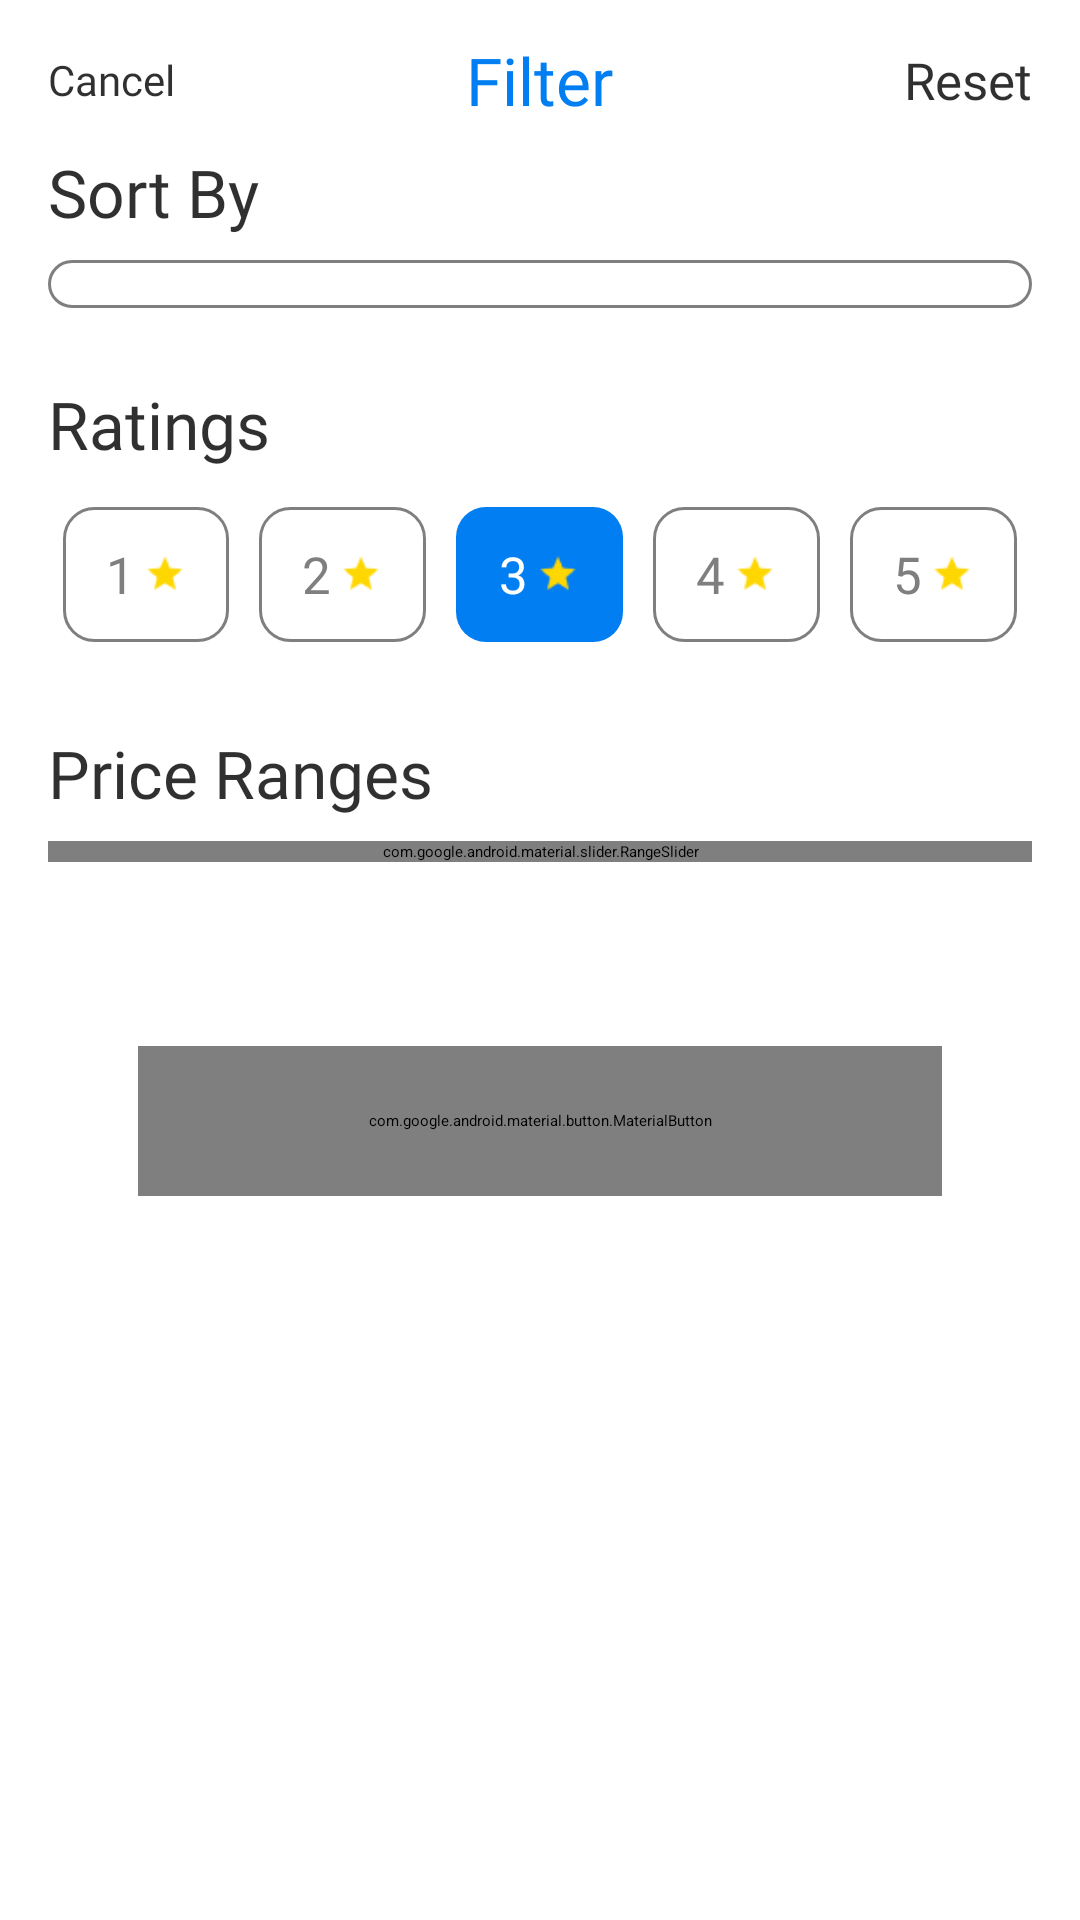

Icon click points for this 1080px x 1920px phone screenshot, format point (x, y):
star: point (165, 573), point (361, 573), point (558, 573), point (755, 573), point (952, 573)
